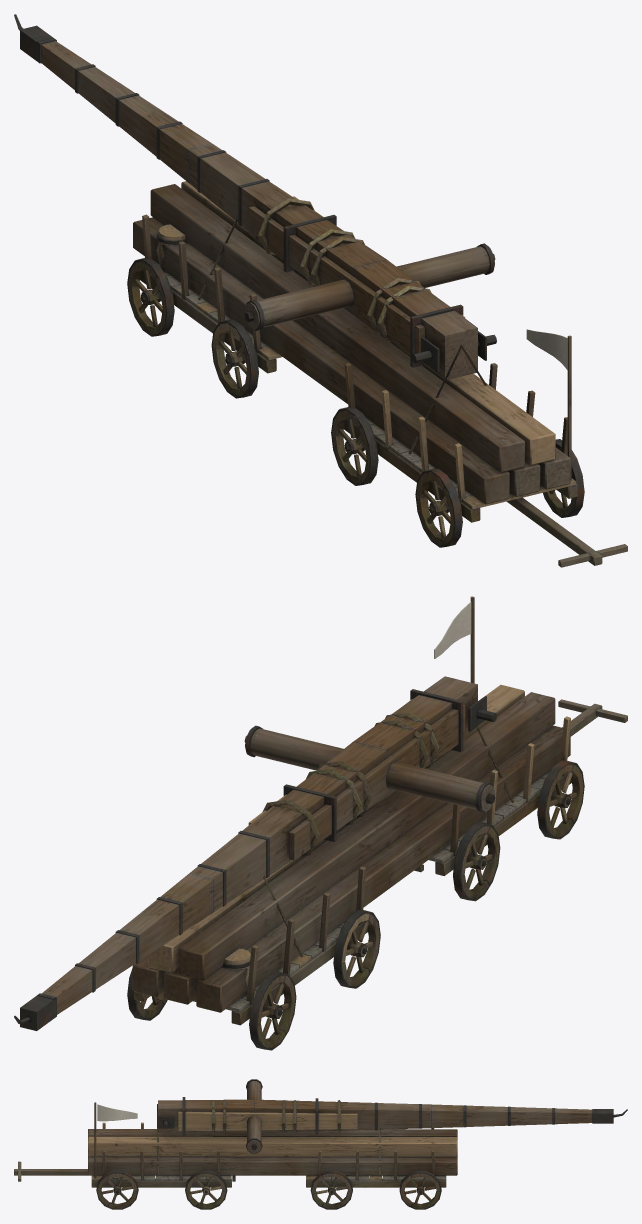
File: trebuchet_packed.glb
The picture shows the model from 3 angles, top to bottom: view 1: azimuth 30°, elevation 25°; view 2: azimuth 150°, elevation 25°; view 3: azimuth 270°, elevation 25°; orthographic projection. The views are drawn at different scales.
Parts seen in each view (by area): view 1: body_LOD0; view 2: body_LOD0; view 3: body_LOD0.
Part boxes in pixels (x1,y1,x2,y2): body_LOD0: (14, 14, 627, 567); body_LOD0: (14, 596, 627, 1050); body_LOD0: (14, 1079, 627, 1209).
Size of what is drawn, in the model's own units: 4.04 by 3.08 by 16.61.
Materials: 2 (2 with a texture image).
